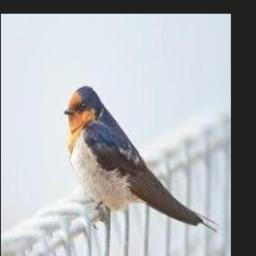Swallow: (64, 86, 218, 233)
